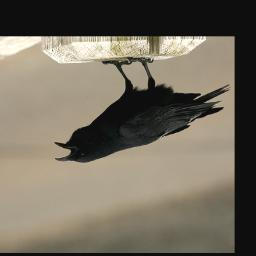Crow: (54, 56, 230, 163)
